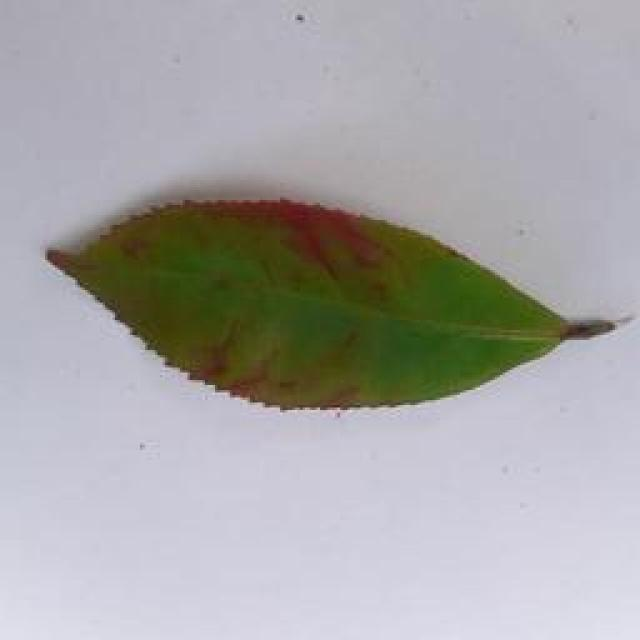Red Leaf Spot: (40, 178, 640, 440)
